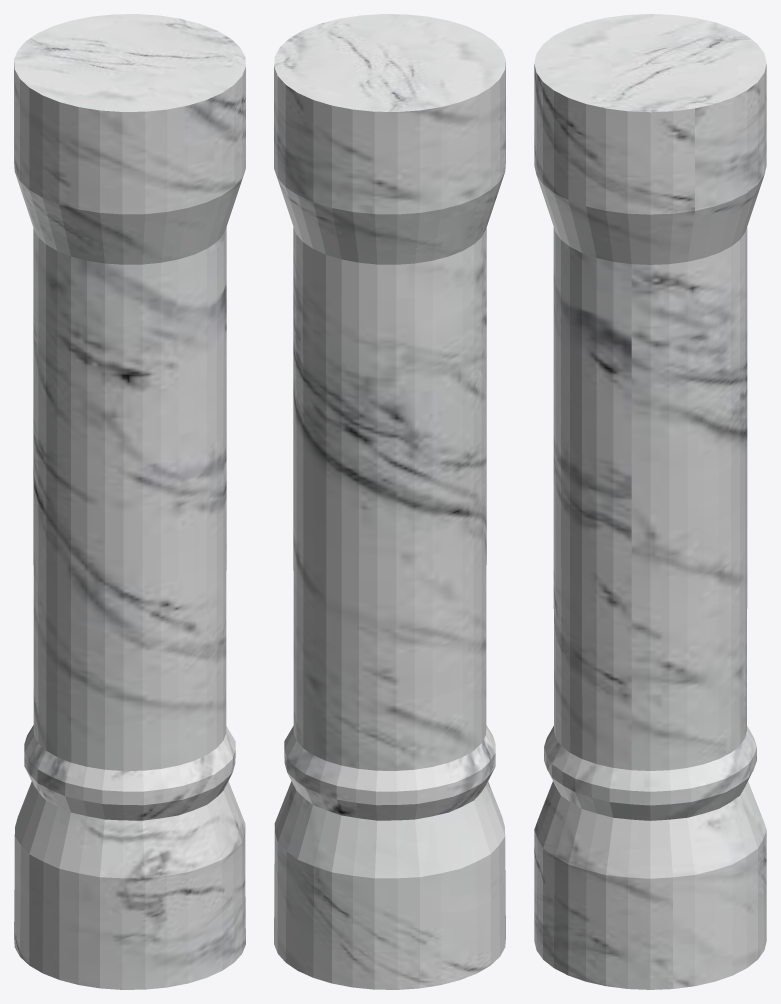
File: Colonne_KOT.fbx
The picture shows the model from 3 angles, left to right: view 1: azimuth 30°, elevation 25°; view 2: azimuth 150°, elevation 25°; view 3: azimuth 270°, elevation 25°; orthographic projection.
Parts seen in each view (by area): view 1: Cylinder; view 2: Cylinder; view 3: Cylinder.
Part boxes in pixels (bbox=[...]): Cylinder: bbox=[14, 14, 245, 989]; Cylinder: bbox=[274, 14, 505, 989]; Cylinder: bbox=[534, 14, 766, 989].
Size of the model in its own units: 120 by 500 by 120.
